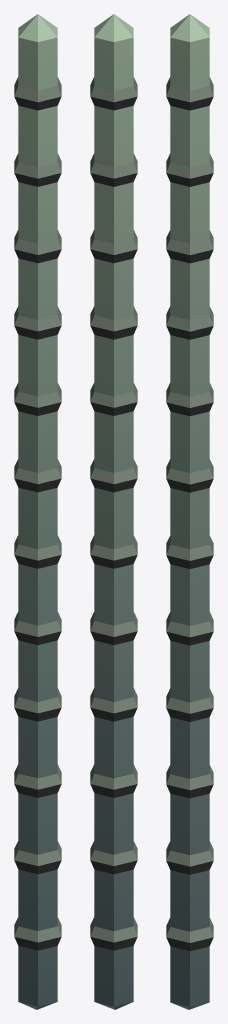
File: long-handle_002.fbx
3 views of the same model, side by side, from view 1: azimuth 30°, elevation 25°; view 2: azimuth 150°, elevation 25°; view 3: azimuth 330°, elevation 25° (orthographic).
Parts seen in each view (by area): view 1: long-handle.002; view 2: long-handle.002; view 3: long-handle.002.
Boxes of the visible parts, x1=… form: long-handle.002: x1=14, y1=14, x2=61, y2=1009; long-handle.002: x1=90, y1=14, x2=137, y2=1009; long-handle.002: x1=166, y1=14, x2=213, y2=1009.
Size of the model in its own units: 7.97 by 160 by 6.91.
